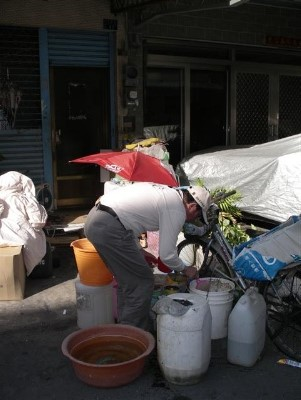bowl: (61, 322, 155, 389)
box: (1, 244, 27, 301)
bucket: (155, 293, 212, 386), (225, 285, 267, 369), (188, 276, 235, 340), (70, 237, 114, 286), (74, 281, 117, 328)
plastic_bag: (178, 133, 301, 220)
